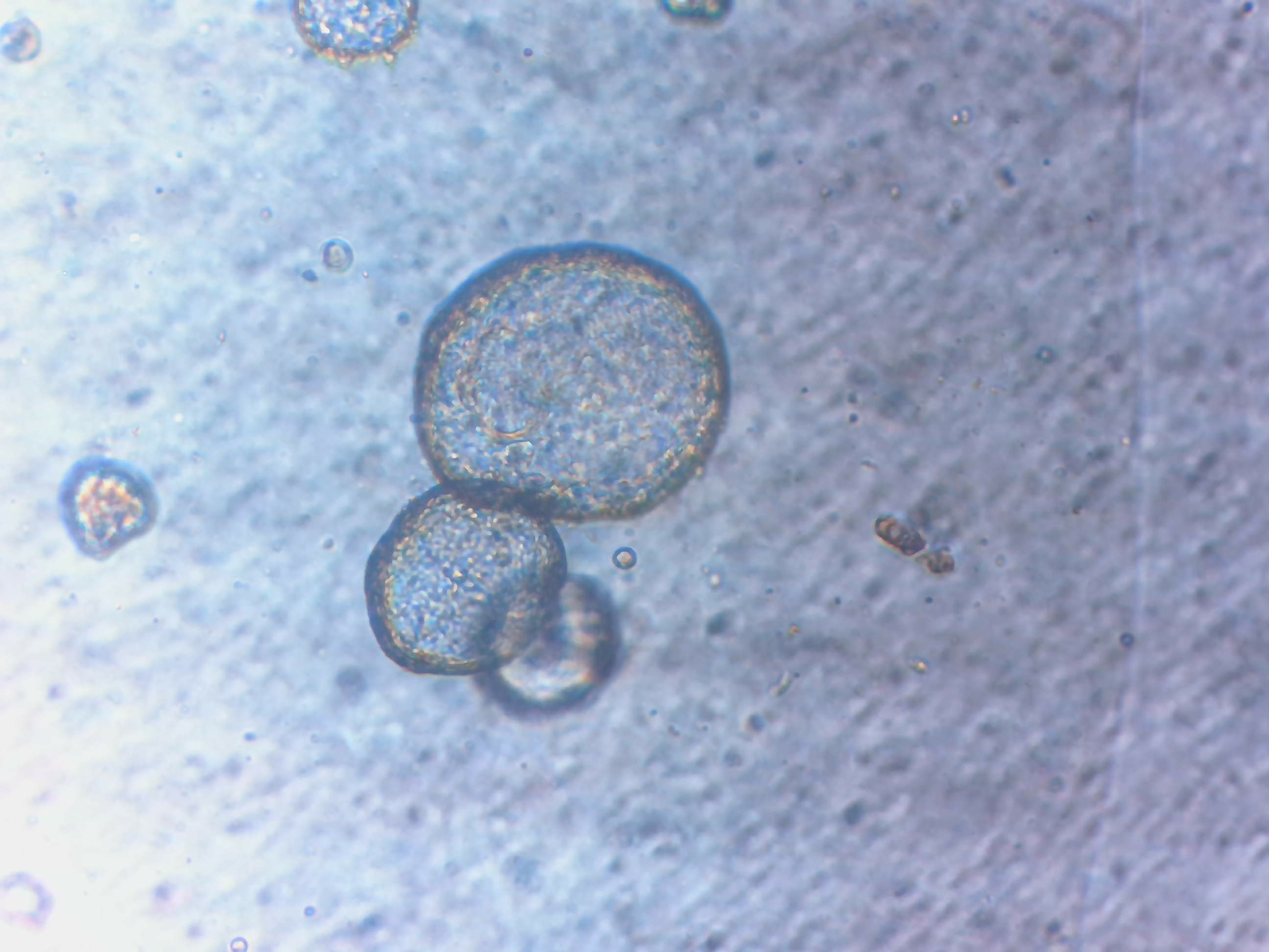organoid: (354, 247, 734, 709), (63, 453, 164, 553), (297, 0, 422, 71)
